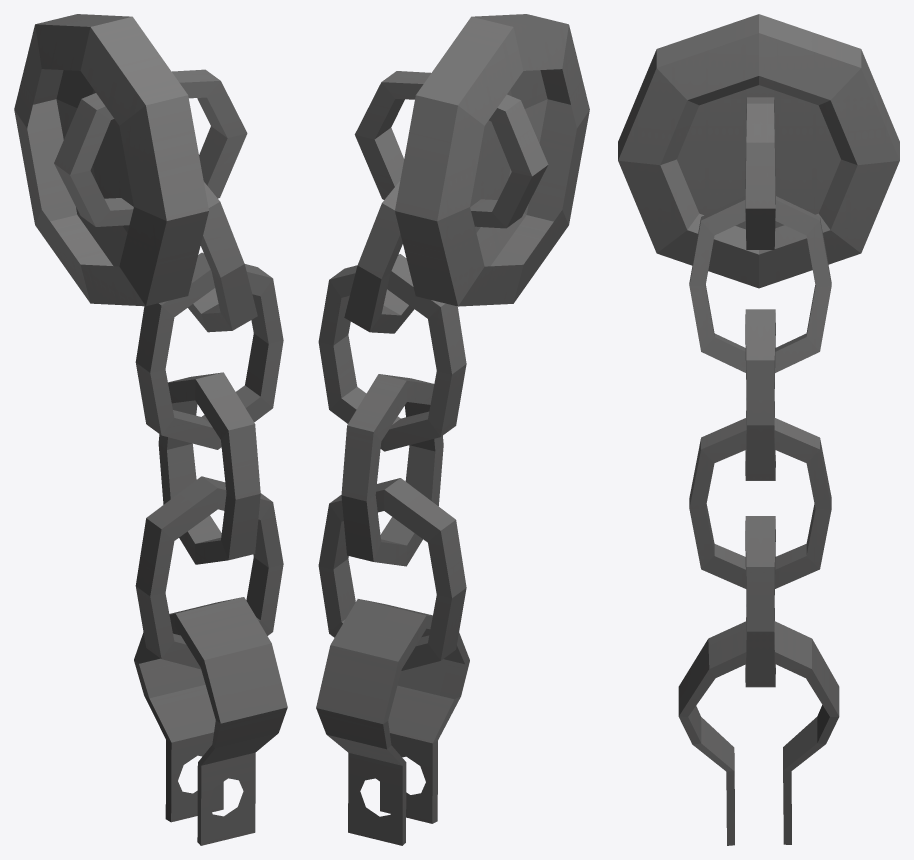
The model's file is cadena con grillete.fbx.
3 renders of one model, left to right at view 1: azimuth 30°, elevation 25°; view 2: azimuth 150°, elevation 25°; view 3: azimuth 270°, elevation 25°, orthographic. The views are drawn at different scales.
Visible parts, largest first — view 1: Cadena; view 2: Cadena; view 3: Cadena.
Part boxes in pixels (x1,y1,x2,y2): Cadena: (14, 14, 287, 845); Cadena: (316, 14, 589, 845); Cadena: (618, 14, 899, 845).
Size of the model in its own units: 108 by 398 by 133.
